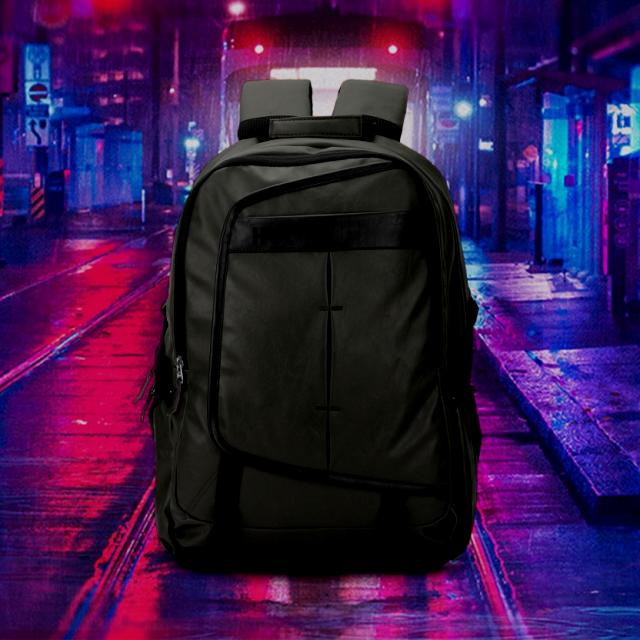backpack: (140, 79, 484, 575)
